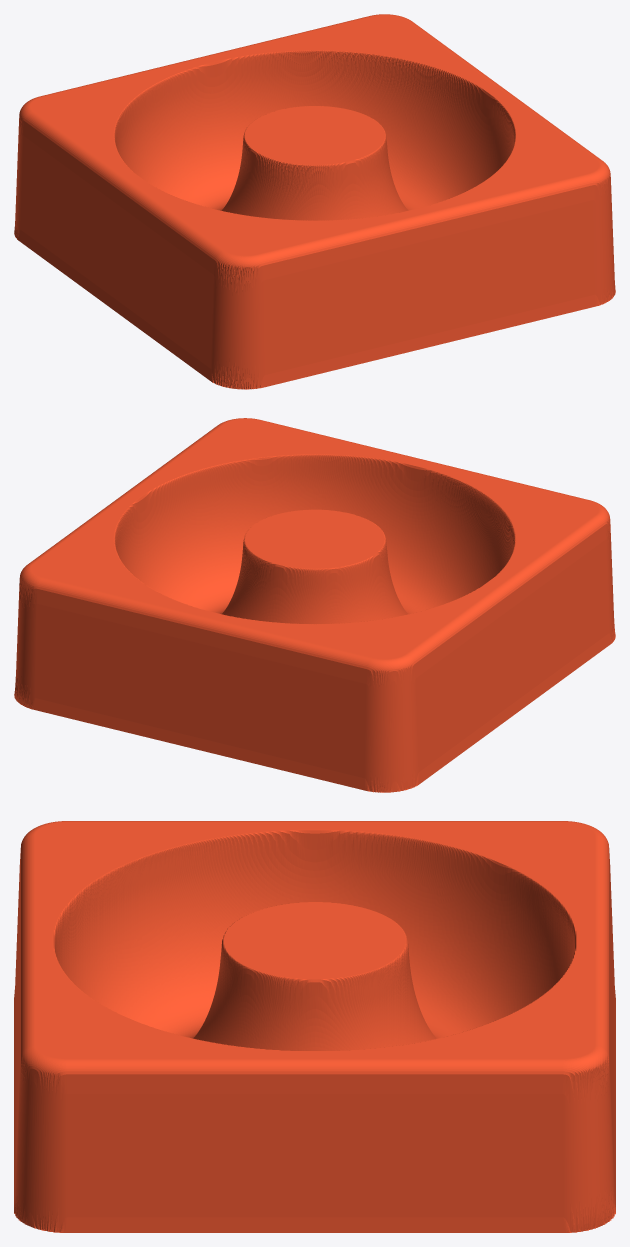
Rendered from mold.glb.
3 views of the same model, one above another, from view 1: azimuth 30°, elevation 25°; view 2: azimuth 150°, elevation 25°; view 3: azimuth 270°, elevation 25° (orthographic). The views are drawn at different scales.
Parts seen in each view (by area): view 1: geometry_0; view 2: geometry_0; view 3: geometry_0.
Part boxes in pixels (box(x1,y1,x2,y2)): geometry_0: box(14, 14, 615, 389); geometry_0: box(14, 418, 615, 792); geometry_0: box(14, 821, 615, 1232).
Bounding box in the file's own units: 0.103 × 0.0312 × 0.103.
